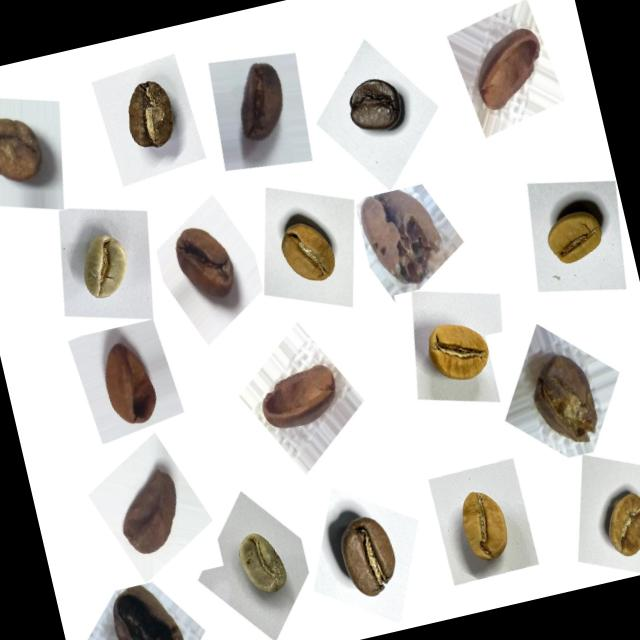bad: (352, 176, 461, 302), (512, 334, 617, 460), (457, 12, 561, 126), (82, 319, 175, 439), (99, 456, 196, 570), (156, 206, 250, 320), (216, 48, 306, 156), (249, 353, 349, 450), (92, 568, 201, 640), (0, 94, 62, 203)
dark: (329, 61, 418, 156)
green: (59, 217, 148, 318), (220, 512, 303, 616)
light: (526, 178, 623, 286), (259, 196, 352, 304), (410, 300, 506, 404), (440, 474, 530, 584), (585, 472, 640, 573)
medium: (316, 496, 418, 614), (106, 67, 194, 169)
